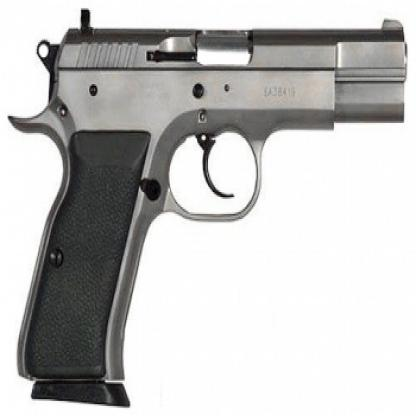Guns: (5, 4, 409, 410)
